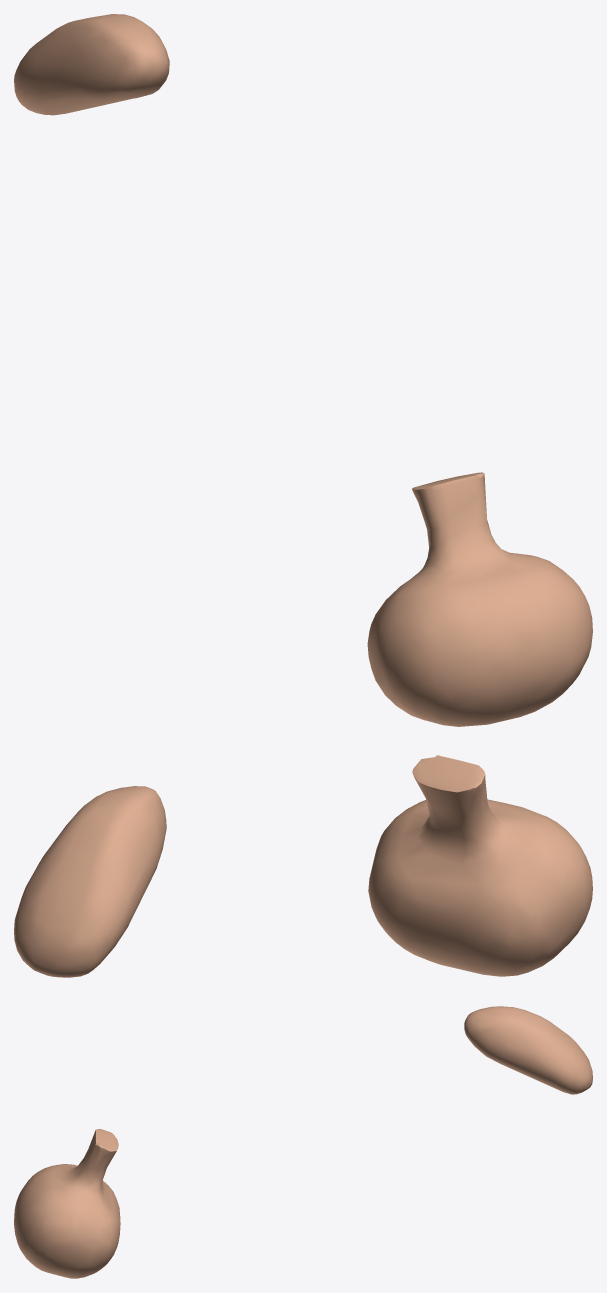
Rendered from endocrine.head.glb.
3 views of the same model, one above another, from view 1: azimuth 30°, elevation 25°; view 2: azimuth 150°, elevation 25°; view 3: azimuth 270°, elevation 25° (orthographic). The views are drawn at different scales.
Visible parts, largest first — view 1: pituitary_gland, pineal_body_bp3d; view 2: pituitary_gland, pineal_body_bp3d; view 3: pituitary_gland, pineal_body_bp3d.
Part boxes in pixels (bbox=[...]): pituitary_gland: bbox=[367, 472, 592, 726]; pineal_body_bp3d: bbox=[14, 14, 169, 115]; pituitary_gland: bbox=[368, 755, 592, 976]; pineal_body_bp3d: bbox=[14, 786, 166, 977]; pituitary_gland: bbox=[14, 1129, 120, 1278]; pineal_body_bp3d: bbox=[464, 1006, 592, 1094].
Size of the model in its own units: 0.0123 by 0.0253 by 0.0514.
